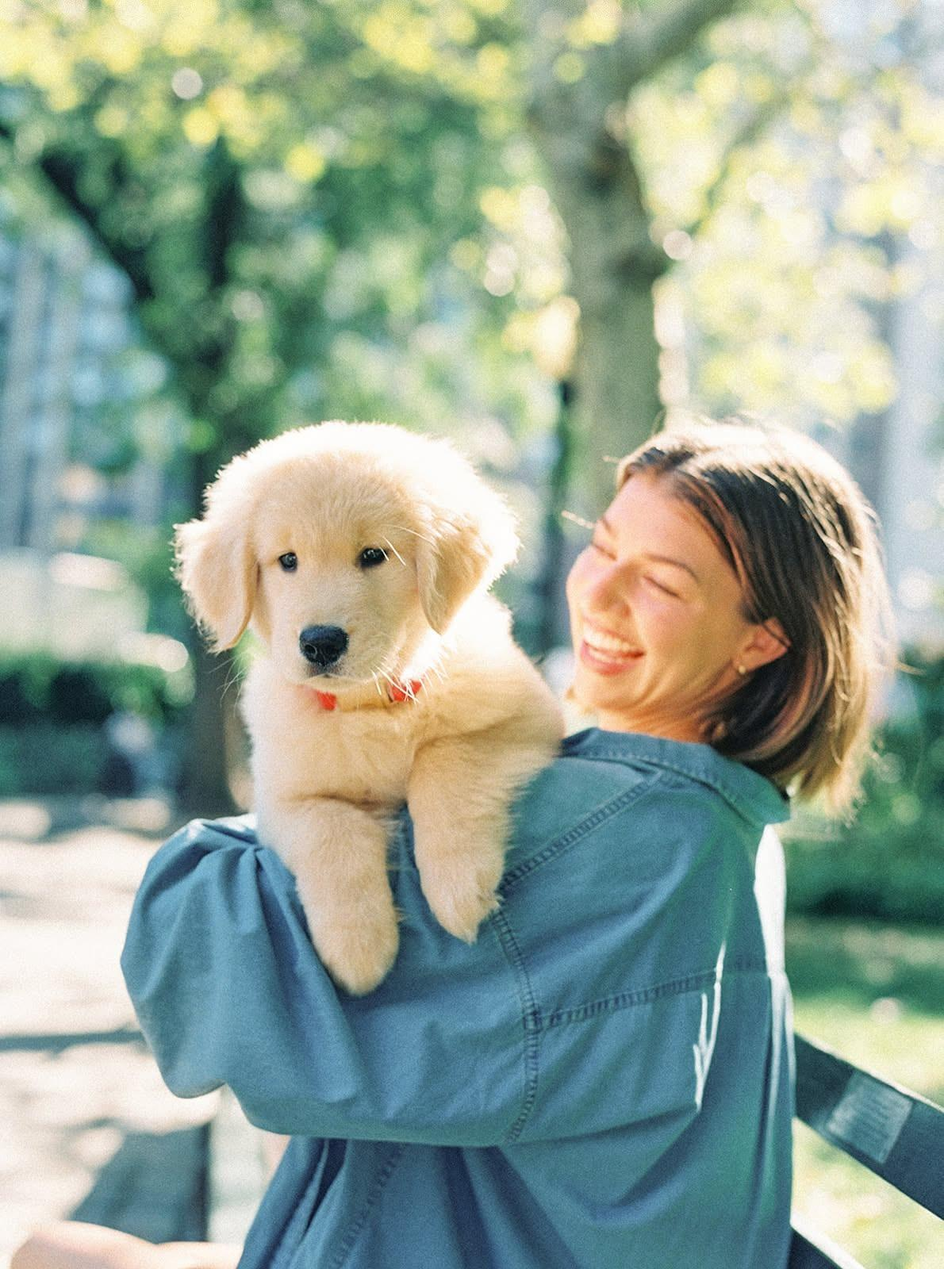puppy-dog: (171, 420, 570, 996)
